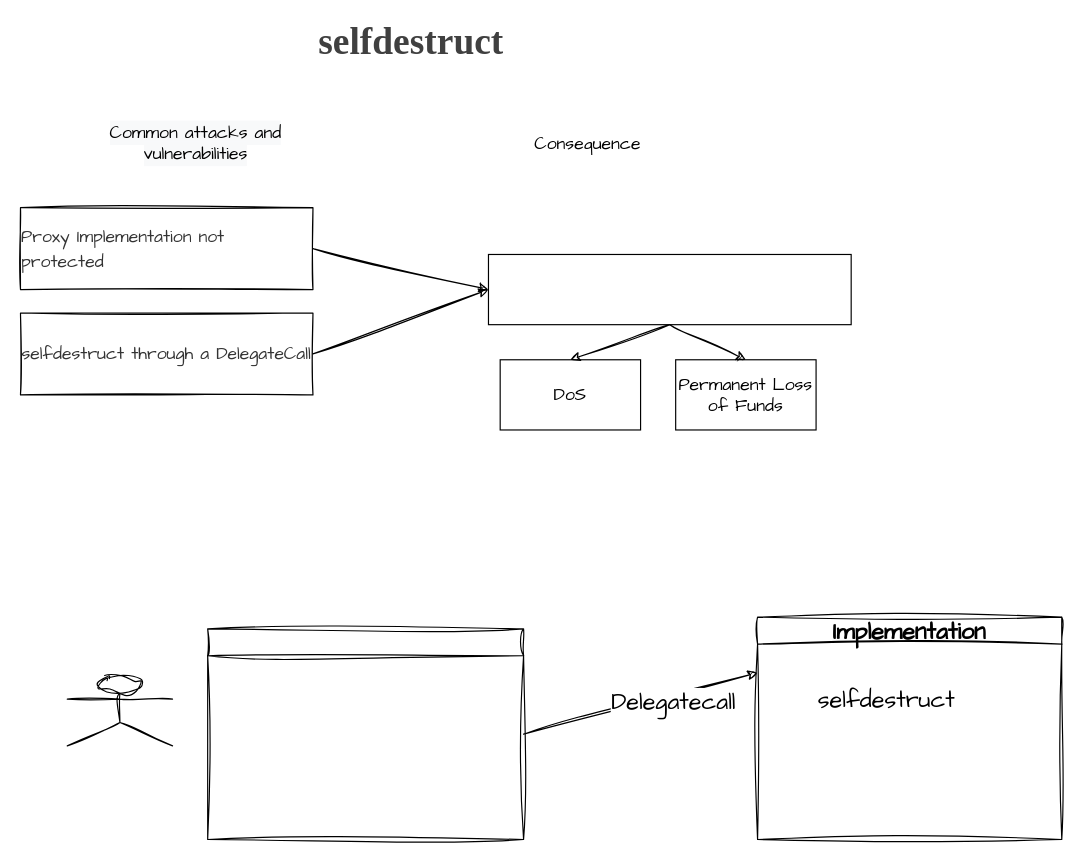
Some shapes in this 1082 by 860 pixel diagram are drawn without their labels. Each missing label, with the centre of its shape:
Caller: (119,710)
Frozen contracts: (669,289)
Smart Contract (Proxy): (365,733)
